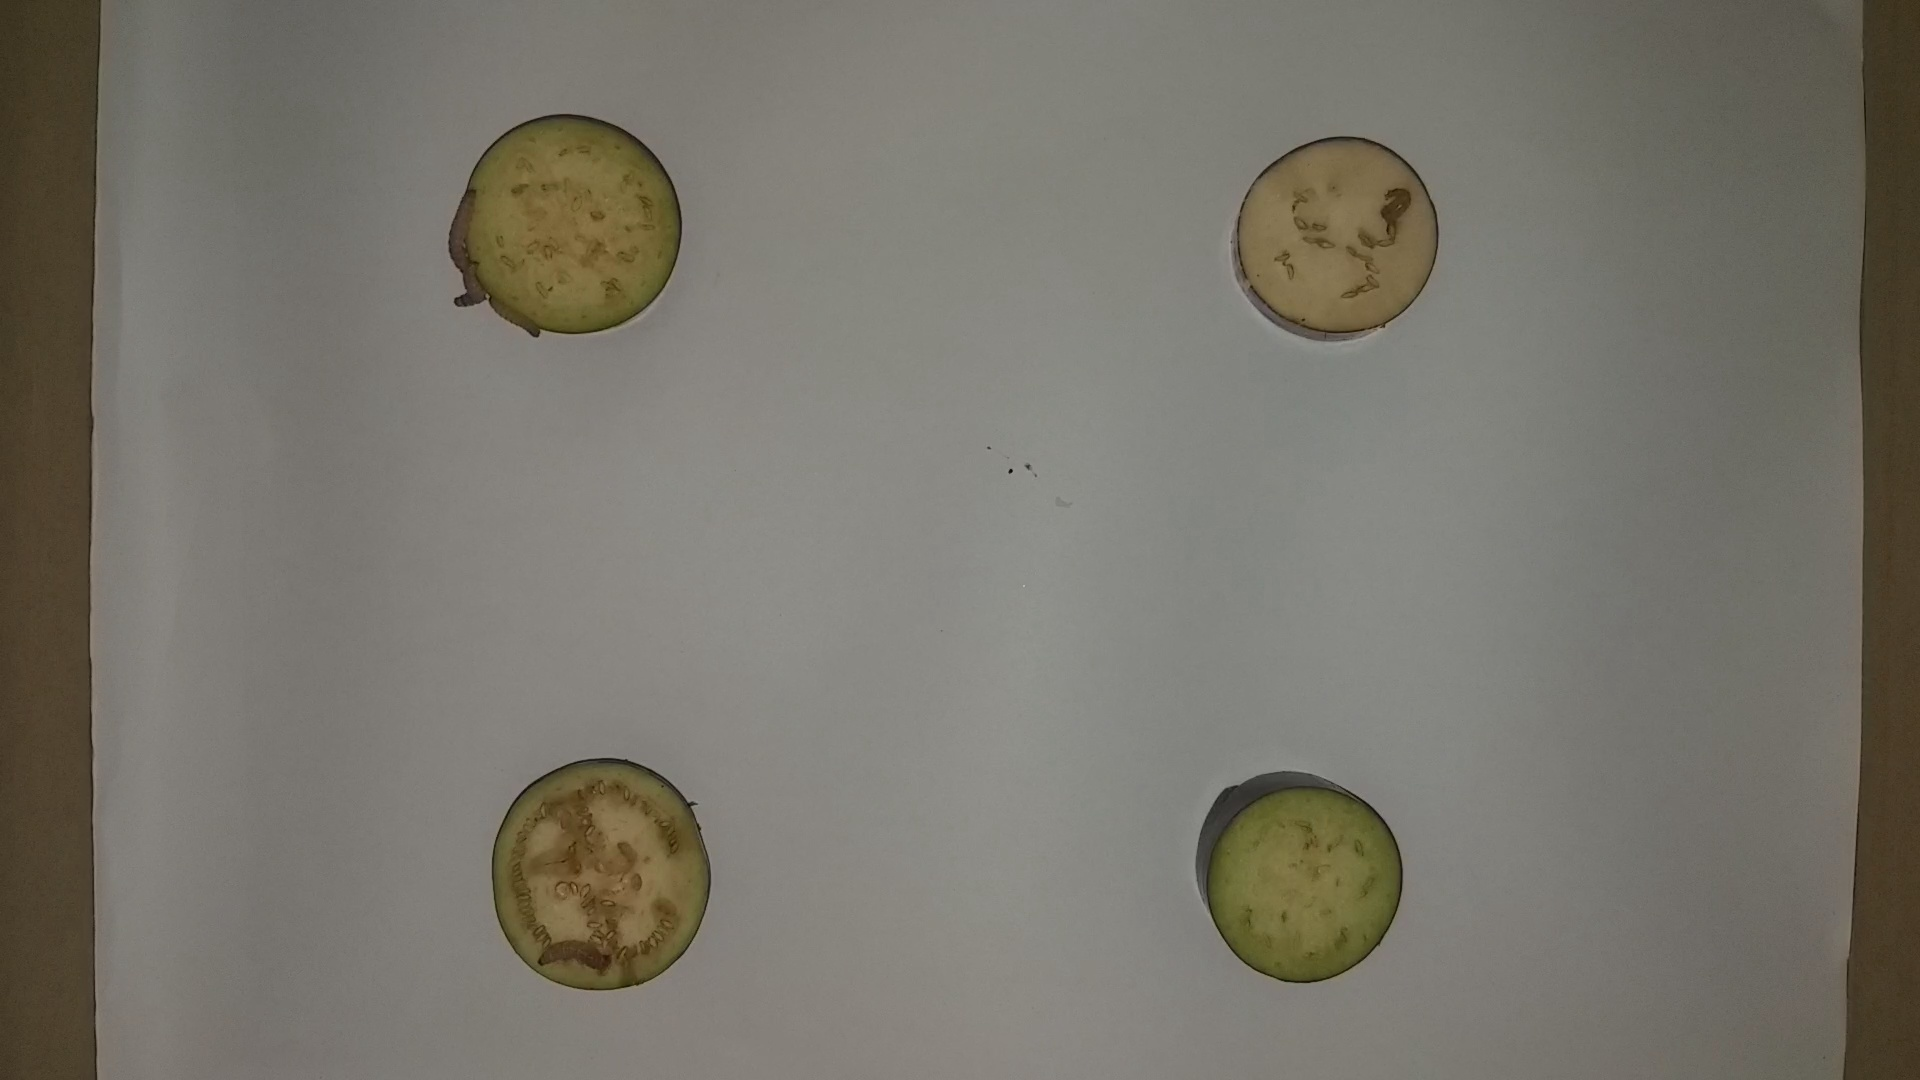efsb: (436, 185, 484, 281), (527, 930, 613, 977), (487, 291, 551, 342), (448, 257, 491, 314), (1374, 177, 1416, 225)
eggplant: (481, 745, 727, 1001), (448, 107, 694, 345), (1183, 756, 1416, 992), (1221, 131, 1453, 355)
